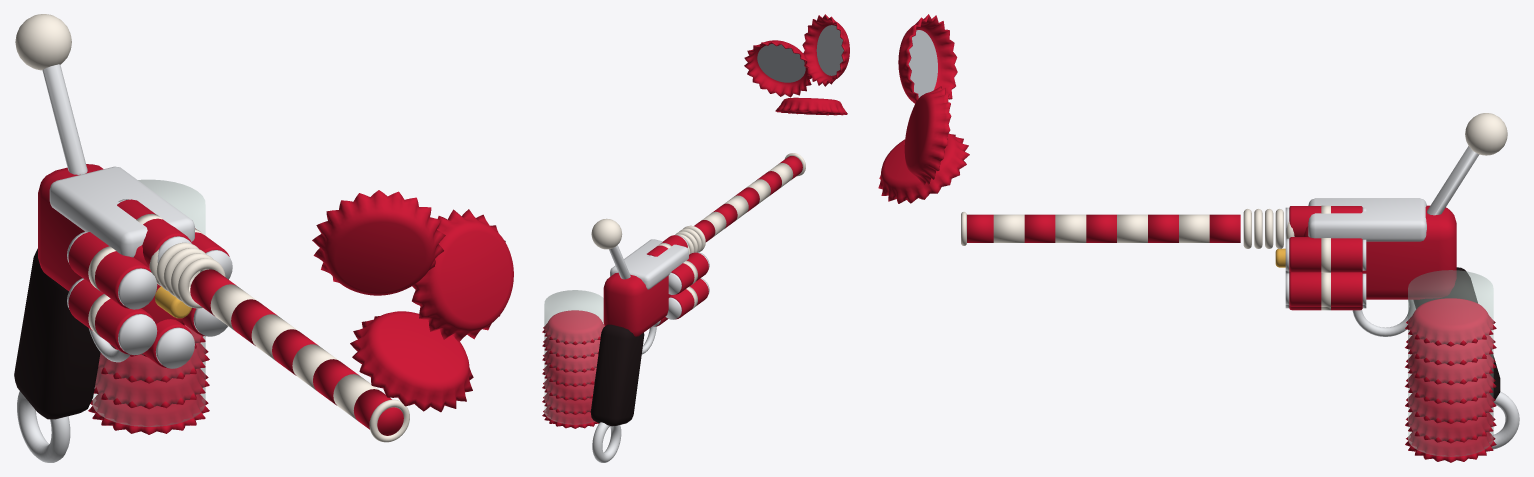
The model's file is shipuchka.glb.
3 renders of one model, left to right at view 1: azimuth 30°, elevation 25°; view 2: azimuth 150°, elevation 25°; view 3: azimuth 270°, elevation 25°, orthographic. The views are drawn at different scales.
Visible parts, largest first — view 1: Монетка в полёте 3, Монетка в полёте 2, Рукоять, Монетка в полёте 1, Туба крышек, Хромовая накладка, Корпус-кран, Запасная крышка 1, Запасная крышка 2, Набалдашник рычага, Баночка 3, Баночка 4 (+25 smaller); view 2: Туба крышек, Рукоять, Корпус-кран, Хромовая накладка, Запасная крышка 7, Монетка в полёте 3, Монетка в полёте 2, Монетка в полёте 2 · подкладка, Монетка в полёте 3 · подкладка, Монетка в полёте 1, Кольцо открывашки, Запасная крышка 6 (+10 smaller); view 3: Туба крышек, Корпус-кран, Хромовая накладка, Запасная крышка 7, Монетка в полёте 2, Монетка в полёте 1, Монетка в полёте 3, Баночка 1, Баночка 6, Запасная крышка 3, Запасная крышка 6, Запасная крышка 2 (+19 smaller).
Boxes of the visible parts, <box> form: Монетка в полёте 3: <box>312,190,445,295</box>; Монетка в полёте 2: <box>412,209,513,342</box>; Рукоять: <box>14,248,100,419</box>; Монетка в полёте 1: <box>350,311,473,412</box>; Туба крышек: <box>92,179,205,426</box>; Хромовая накладка: <box>49,166,194,257</box>; Корпус-кран: <box>38,164,184,324</box>; Запасная крышка 1: <box>88,394,209,434</box>; Запасная крышка 2: <box>94,368,209,409</box>; Набалдашник рычага: <box>15,14,71,70</box>; Баночка 3: <box>68,232,151,308</box>; Баночка 4: <box>68,279,153,354</box>; Туба крышек: <box>544,290,604,424</box>; Рукоять: <box>590,324,644,426</box>; Корпус-кран: <box>603,272,670,336</box>; Хромовая накладка: <box>610,239,688,289</box>; Запасная крышка 7: <box>542,310,604,345</box>; Монетка в полёте 3: <box>802,14,849,86</box>; Монетка в полёте 2: <box>744,40,811,97</box>; Монетка в полёте 2 · подкладка: <box>757,44,805,82</box>; Монетка в полёте 3 · подкладка: <box>816,25,843,75</box>; Монетка в полёте 1: <box>775,97,847,115</box>; Кольцо открывашки: <box>592,422,621,462</box>; Запасная крышка 6: <box>542,337,600,358</box>; Туба крышек: <box>1408,270,1493,456</box>; Корпус-кран: <box>1303,205,1456,299</box>; Хромовая накладка: <box>1308,198,1426,241</box>; Запасная крышка 7: <box>1405,298,1496,346</box>; Монетка в полёте 2: <box>904,86,951,185</box>; Монетка в полёте 1: <box>878,133,969,203</box>; Монетка в полёте 3: <box>898,14,957,103</box>; Баночка 1: <box>1289,237,1362,272</box>; Баночка 6: <box>1289,272,1362,306</box>; Запасная крышка 3: <box>1405,393,1496,423</box>; Запасная крышка 6: <box>1405,335,1496,365</box>; Запасная крышка 2: <box>1405,412,1496,443</box>.
Size of the model in its own units: 0.1606 by 0.3883 by 0.5401.
